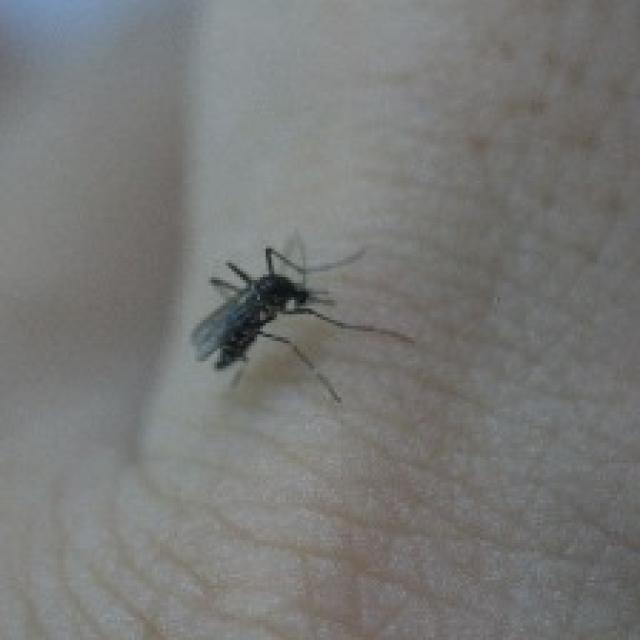aedes: (186, 231, 414, 403)
